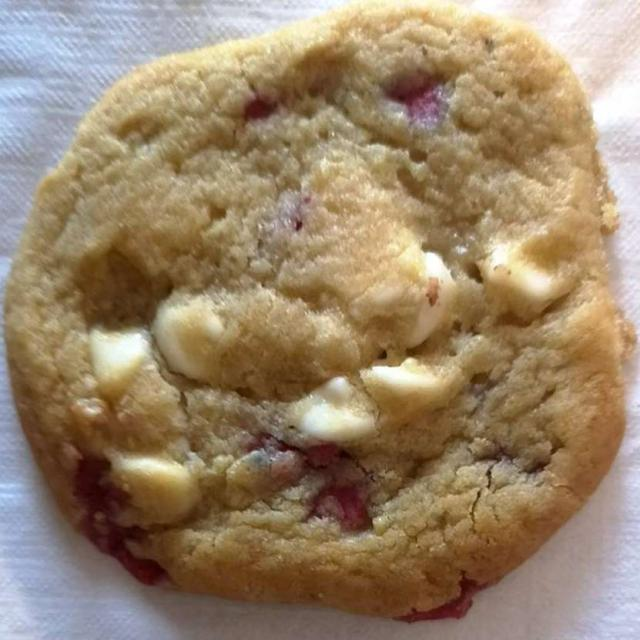cookies: (18, 34, 620, 609)
